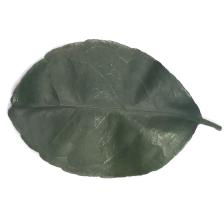healthy: (7, 38, 202, 178)
